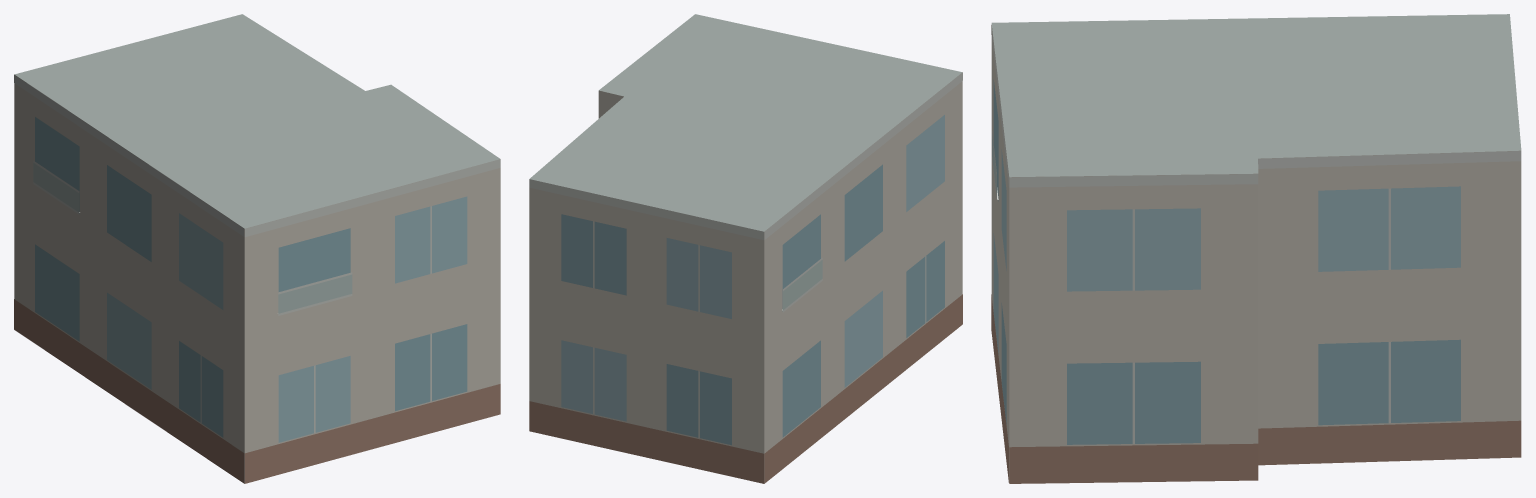
File: survey-upis-32505479.glb
The picture shows the model from 3 angles, left to right: view 1: azimuth 30°, elevation 25°; view 2: azimuth 150°, elevation 25°; view 3: azimuth 270°, elevation 25°; orthographic projection. The views are drawn at different scales.
Visible parts, largest first — view 1: survey-upis-32505479.tmp; view 2: survey-upis-32505479.tmp; view 3: survey-upis-32505479.tmp.
Part boxes in pixels (x1,y1,x2,y2): survey-upis-32505479.tmp: (14, 14, 500, 483); survey-upis-32505479.tmp: (529, 14, 962, 483); survey-upis-32505479.tmp: (991, 14, 1521, 483).
Bounding box in the file's own units: 8.17 × 7.15 × 11.21.
